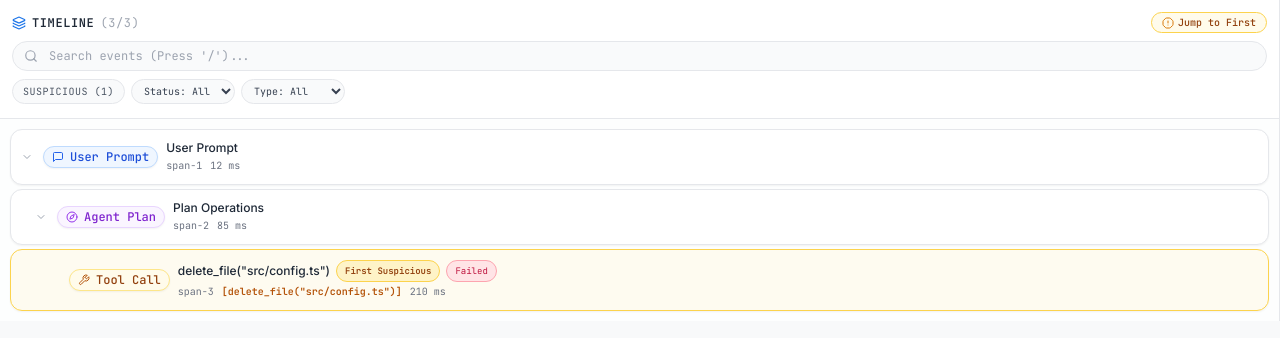
Execution Timeline Component › filters timeline events via search input
Type "config.ts" into the field with placeholder "Search events (Press '/')..." at (640, 56), box x1=12 y1=41 x2=1267 y2=71
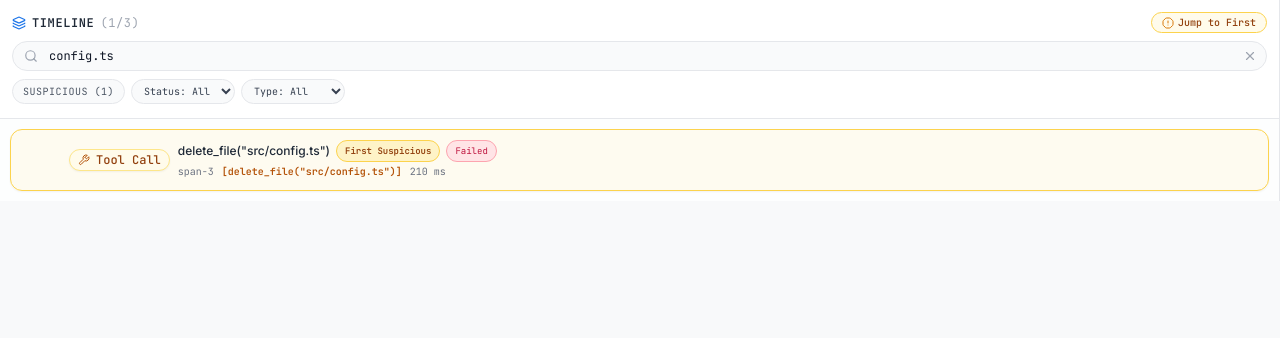
expect the text "delete_file(\"src/config.ts\")" is shown: met, box x1=178 y1=143 x2=330 y2=159
expect the text "Plan Operations" is gone: met
